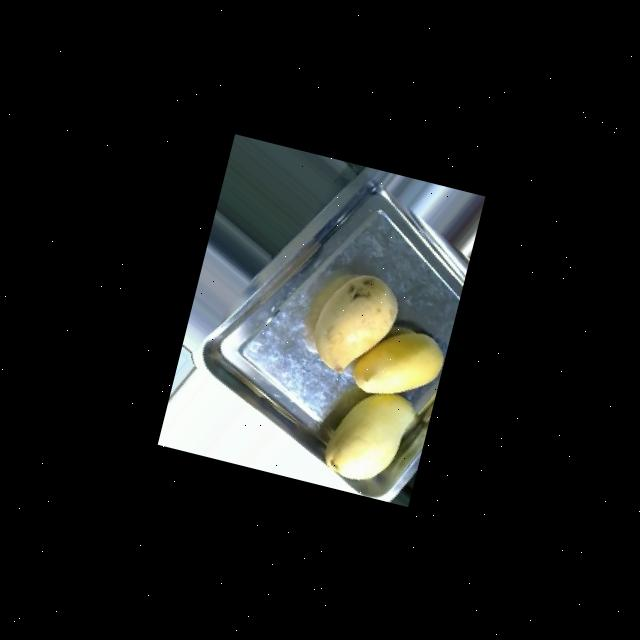Mango: (305, 264, 404, 382), (318, 380, 418, 490), (348, 317, 448, 408)
